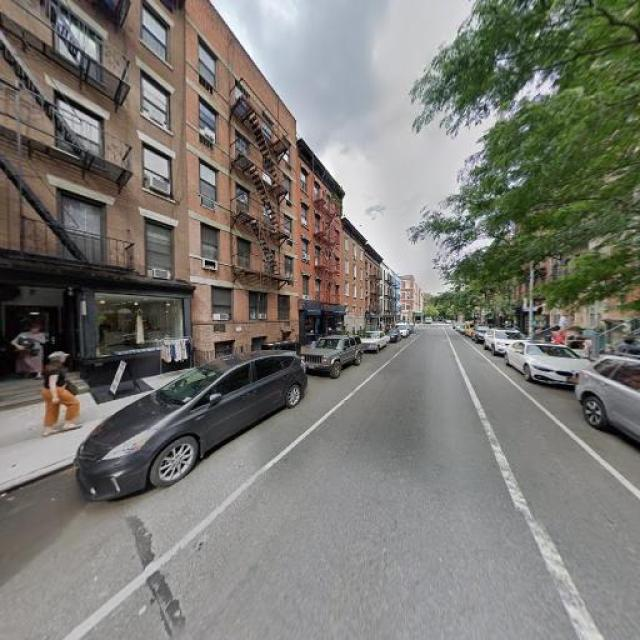Building: (1, 1, 185, 407), (189, 1, 299, 369), (302, 140, 343, 347), (345, 219, 365, 338)
